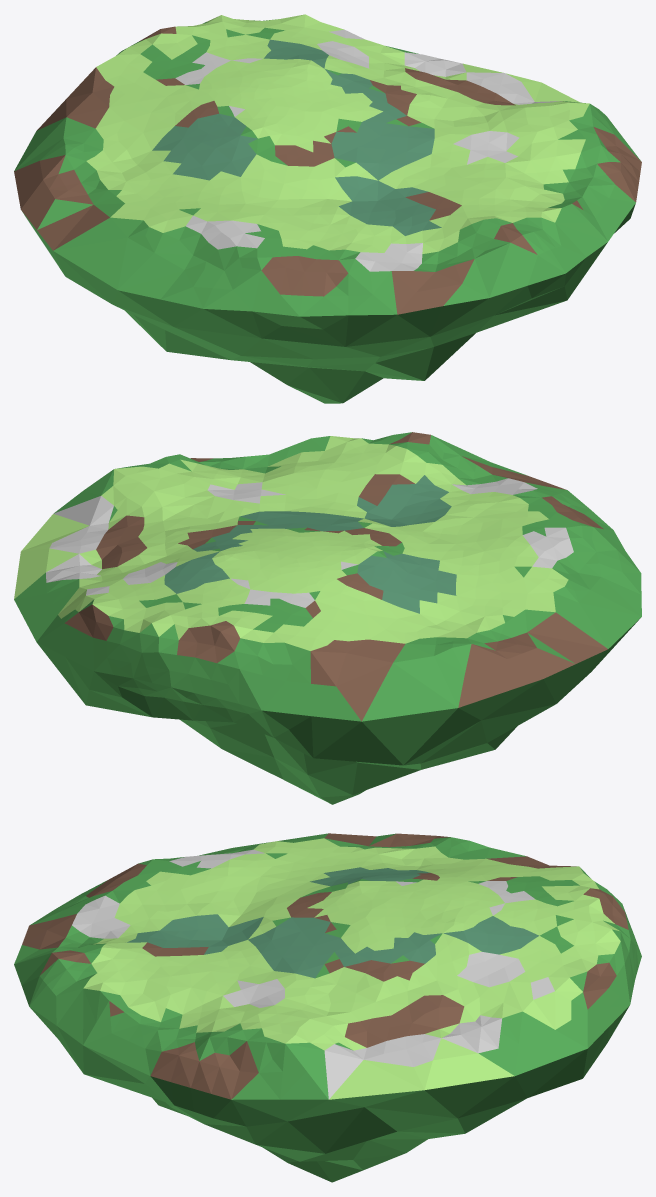
Rendered from small4.fbx.
The picture shows the model from 3 angles, top to bottom: view 1: azimuth 30°, elevation 25°; view 2: azimuth 150°, elevation 25°; view 3: azimuth 270°, elevation 25°; orthographic projection.
Parts seen in each view (by area): view 1: 棱角球; view 2: 棱角球; view 3: 棱角球.
Part boxes in pixels (x1,y1,x2,y2): 棱角球: (14,14,641,403); 棱角球: (14,432,641,804); 棱角球: (14,833,641,1182).
Size of the model in its own units: 4919 by 2406 by 4900.
